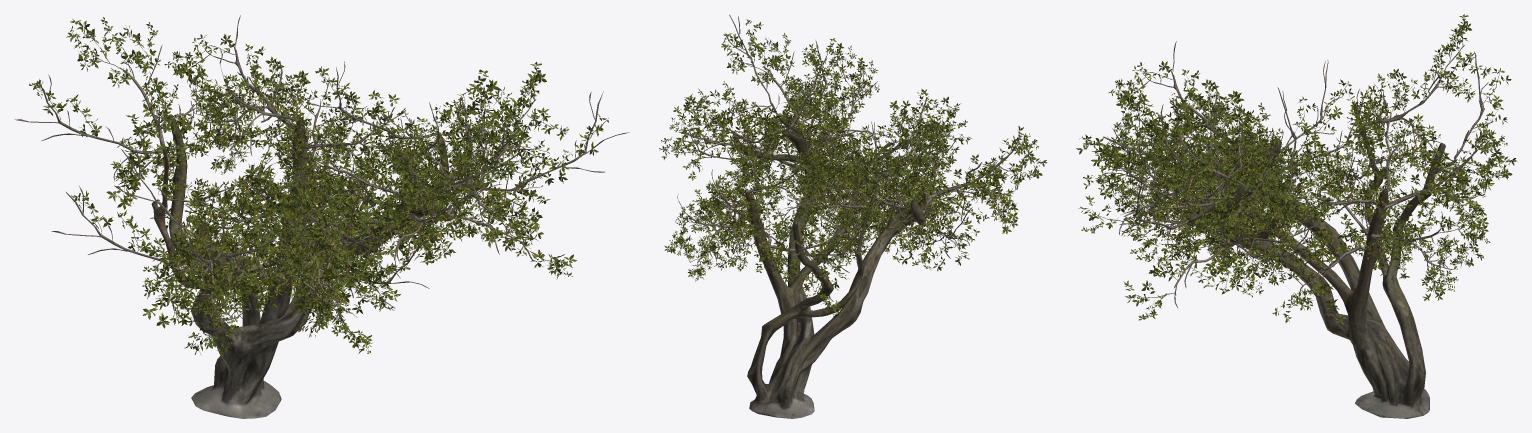
The model's file is island_tree_02.glb.
3 renders of one model, left to right at view 1: azimuth 30°, elevation 25°; view 2: azimuth 150°, elevation 25°; view 3: azimuth 270°, elevation 25°, orthographic. The views are drawn at different scales.
Parts seen in each view (by area): view 1: island_tree_02_LOD0; view 2: island_tree_02_LOD0; view 3: island_tree_02_LOD0.
Part boxes in pixels (bbox=[...]): island_tree_02_LOD0: bbox=[15, 15, 629, 418]; island_tree_02_LOD0: bbox=[659, 14, 1047, 418]; island_tree_02_LOD0: bbox=[1076, 14, 1517, 418].
Bounding box in the file's own units: 4.21 × 3.41 × 4.07.
3 materials, 3 textured.
